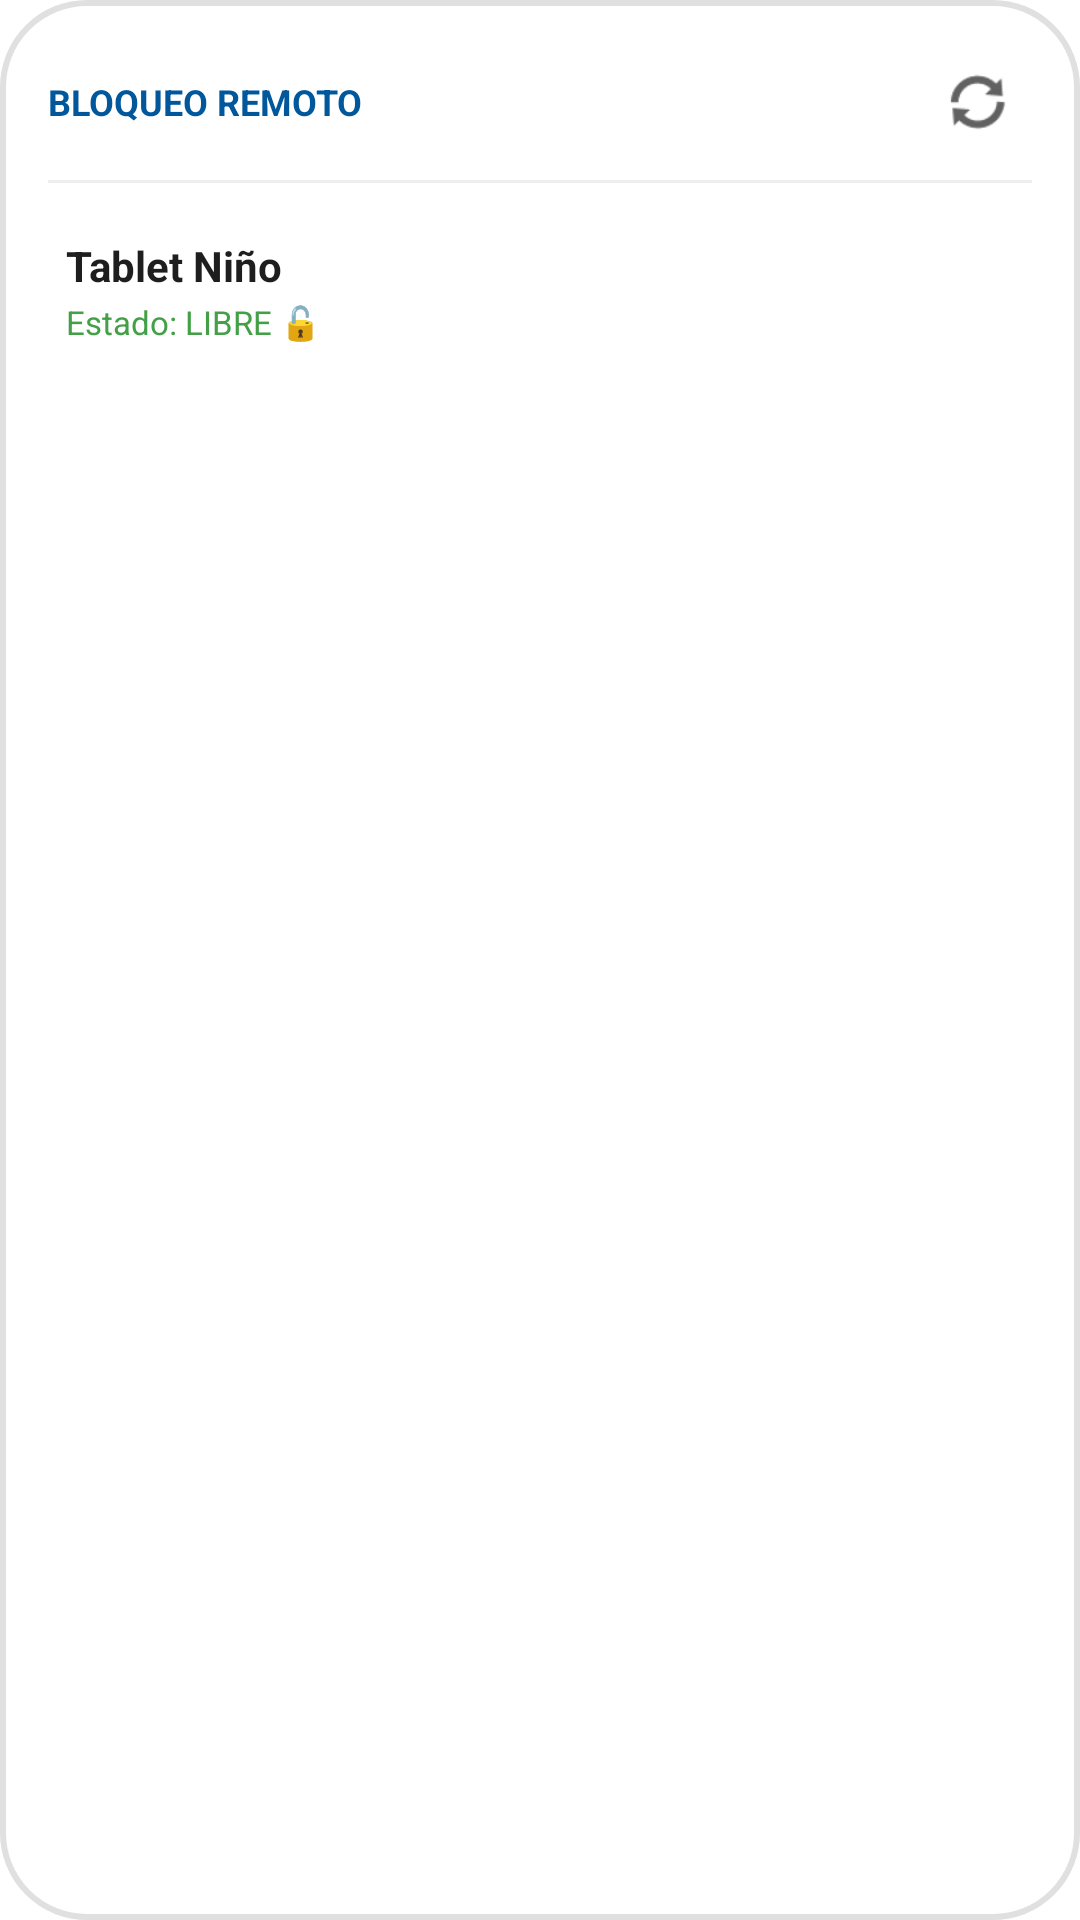

Icons on this 1080w x 1920h Android screen, each with the point to tap as point (x, y):
Refrescar: point (978, 102)
